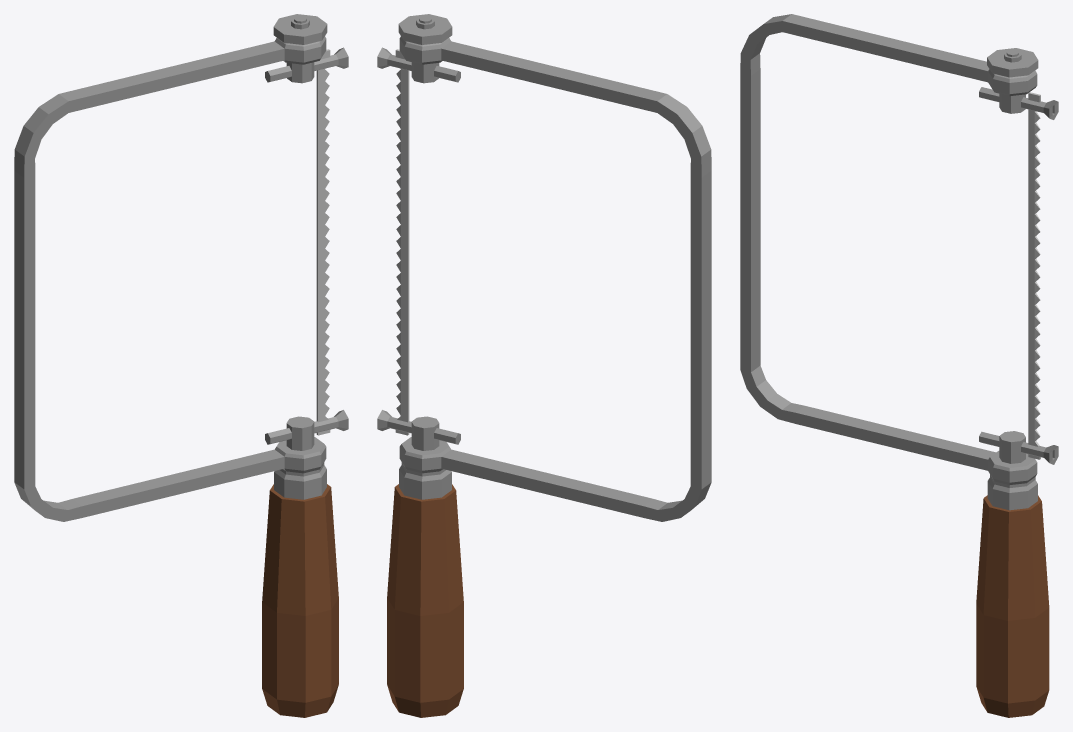
The model's file is copingsaw01.gltf.
3 views of the same model, side by side, from view 1: azimuth 30°, elevation 25°; view 2: azimuth 150°, elevation 25°; view 3: azimuth 330°, elevation 25° (orthographic). The views are drawn at different scales.
Visible parts, largest first — view 1: Cylinder; view 2: Cylinder; view 3: Cylinder.
Part boxes in pixels (x1,y1,x2,y2): Cylinder: [14, 14, 348, 717]; Cylinder: [377, 14, 711, 717]; Cylinder: [740, 14, 1058, 717].
Bounding box in the file's own units: 0.1579 × 0.3185 × 0.0302.
Materials: 1 (1 with a texture image).
